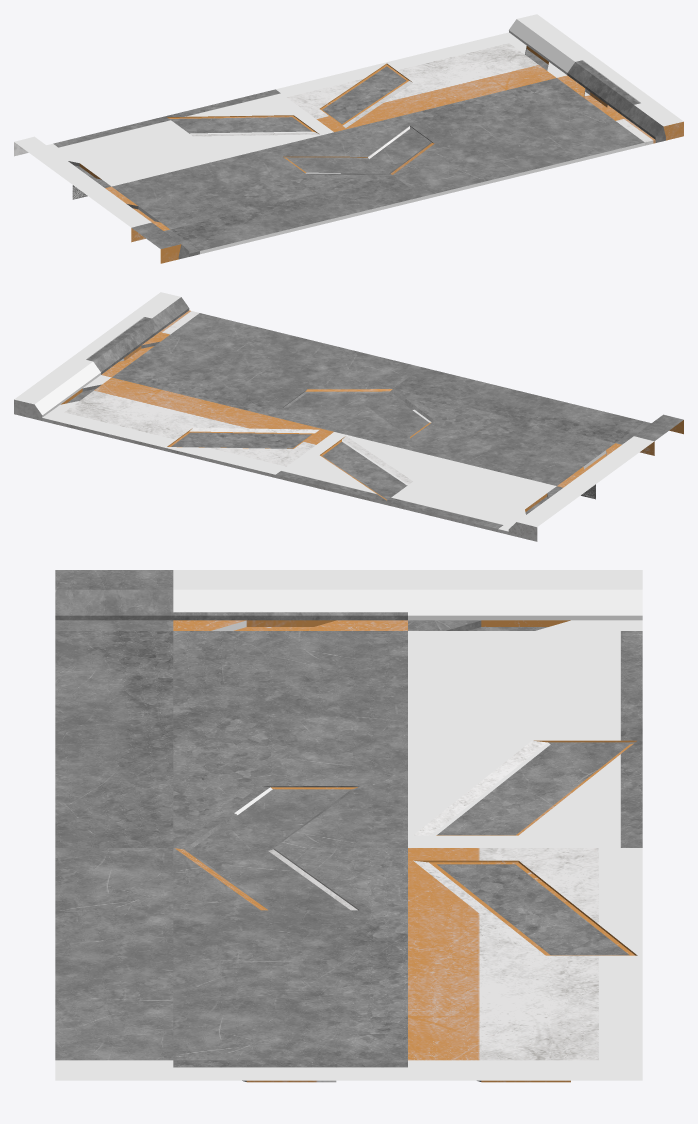
File: SMOD_FrameRoad_Full 2.fbx
3 renders of one model, top to bottom at view 1: azimuth 30°, elevation 25°; view 2: azimuth 150°, elevation 25°; view 3: azimuth 270°, elevation 25°, orthographic. The views are drawn at different scales.
Visible parts, largest first — view 1: SMOD_FrameRoad_Full; view 2: SMOD_FrameRoad_Full; view 3: SMOD_FrameRoad_Full.
Part boxes in pixels (bbox=[...]): SMOD_FrameRoad_Full: bbox=[14, 14, 683, 263]; SMOD_FrameRoad_Full: bbox=[14, 292, 683, 541]; SMOD_FrameRoad_Full: bbox=[55, 570, 642, 1082].
Size of the model in its own units: 5148 by 144 by 2503.
